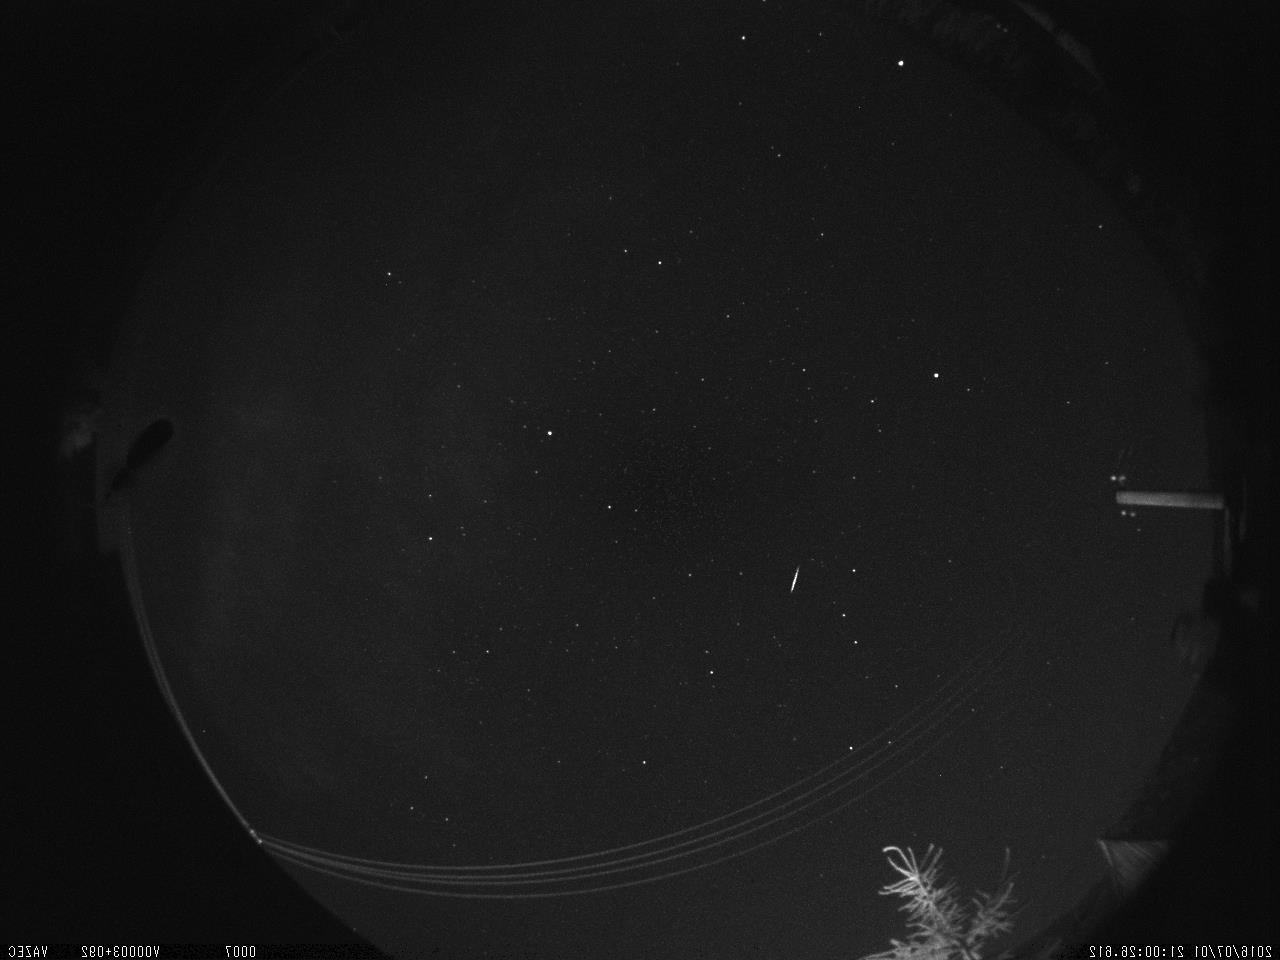meteor: (780, 558, 809, 602)
